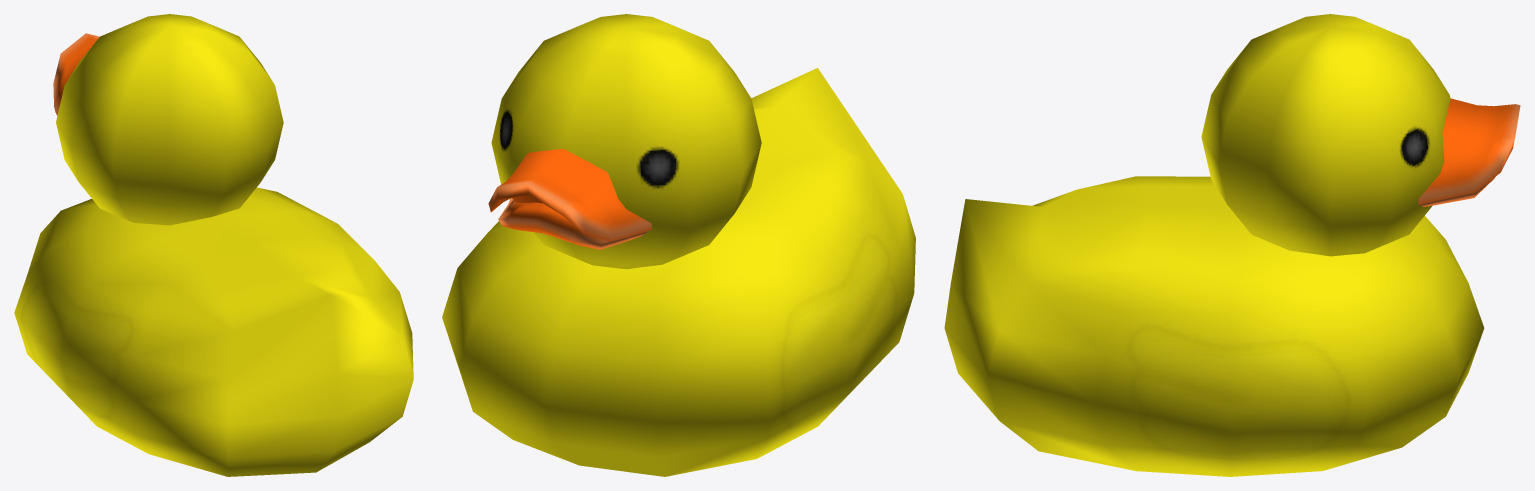
Rendered from classic_roblox_rubber_duckie.glb.
The picture shows the model from 3 angles, left to right: view 1: azimuth 30°, elevation 25°; view 2: azimuth 150°, elevation 25°; view 3: azimuth 270°, elevation 25°; orthographic projection. The views are drawn at different scales.
Parts seen in each view (by area): view 1: Object_2; view 2: Object_2; view 3: Object_2.
Part boxes in pixels (<box>): Object_2: <box>14,14,413,476</box>; Object_2: <box>442,14,915,476</box>; Object_2: <box>944,14,1520,476</box>.
Size of the model in its own units: 0.8297 by 0.8838 by 1.2.
Materials: 1 (1 with a texture image).
